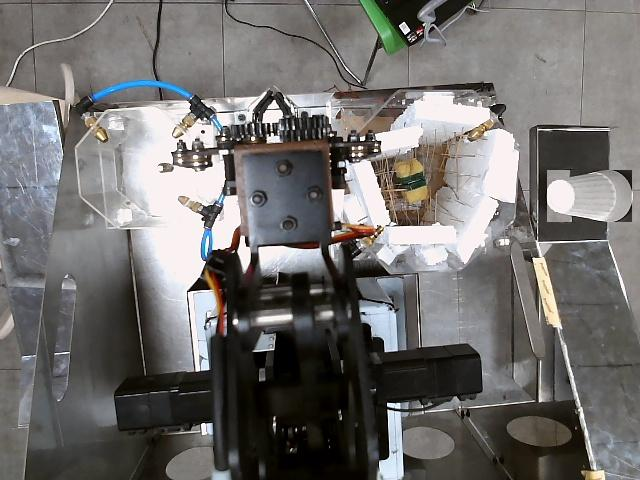cup: (547, 170, 632, 222)
